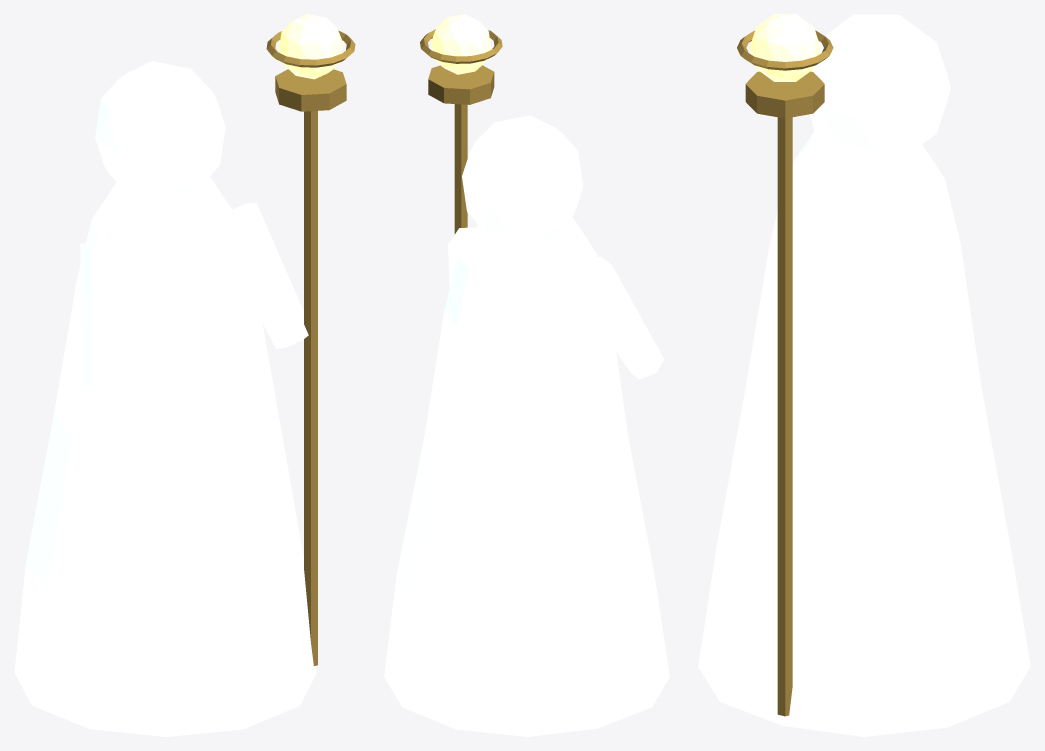
The model's file is maren_echo.glb.
3 views of the same model, side by side, from view 1: azimuth 30°, elevation 25°; view 2: azimuth 150°, elevation 25°; view 3: azimuth 270°, elevation 25° (orthographic). The views are drawn at different scales.
Visible parts, largest first — view 1: MarenEcho; view 2: MarenEcho; view 3: MarenEcho.
Part boxes in pixels (left/top/right/bottom): MarenEcho: left=14, top=14, right=355, bottom=736; MarenEcho: left=384, top=14, right=669, bottom=736; MarenEcho: left=698, top=14, right=1030, bottom=736.
Bounding box in the file's own units: 0.8816 × 1.99 × 0.8387.
